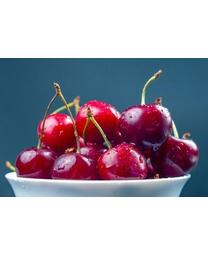cherry: (120, 104, 171, 149), (150, 134, 199, 174), (76, 100, 119, 142), (97, 143, 147, 179), (38, 114, 78, 151), (51, 151, 97, 183), (16, 145, 53, 176)
